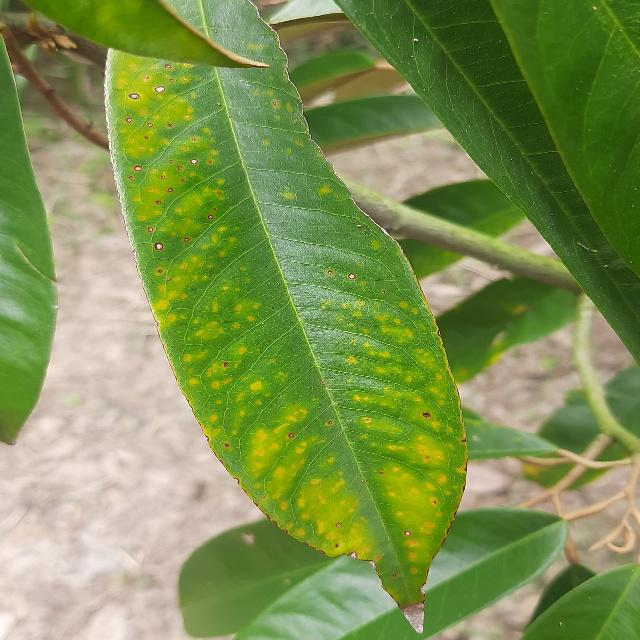Leaf Spot: (89, 0, 478, 639)
